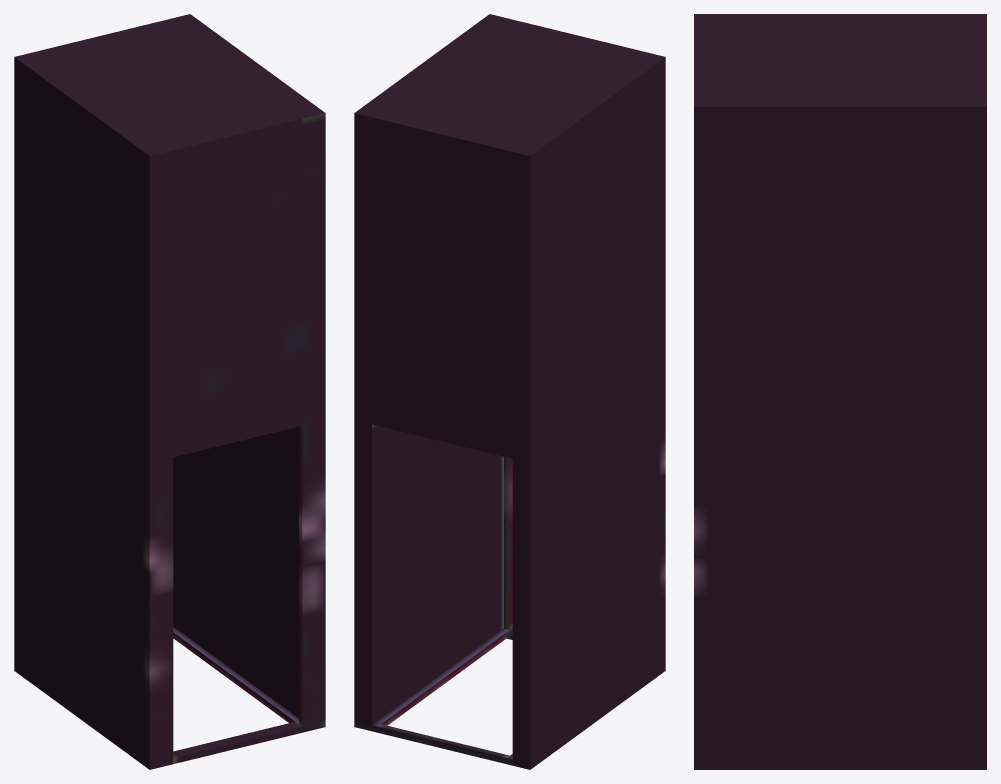
Rendered from BuildingModule_F_00.fbx.
3 views of the same model, side by side, from view 1: azimuth 30°, elevation 25°; view 2: azimuth 150°, elevation 25°; view 3: azimuth 270°, elevation 25° (orthographic). The views are drawn at different scales.
Parts seen in each view (by area): view 1: BuildingModule_F_00; view 2: BuildingModule_F_00; view 3: BuildingModule_F_00.
Boxes of the visible parts, x1,y1,x2,y2 form: BuildingModule_F_00: [14, 14, 325, 769]; BuildingModule_F_00: [354, 14, 665, 769]; BuildingModule_F_00: [694, 14, 986, 769].
Size of the model in its own units: 150 by 500 by 200.
